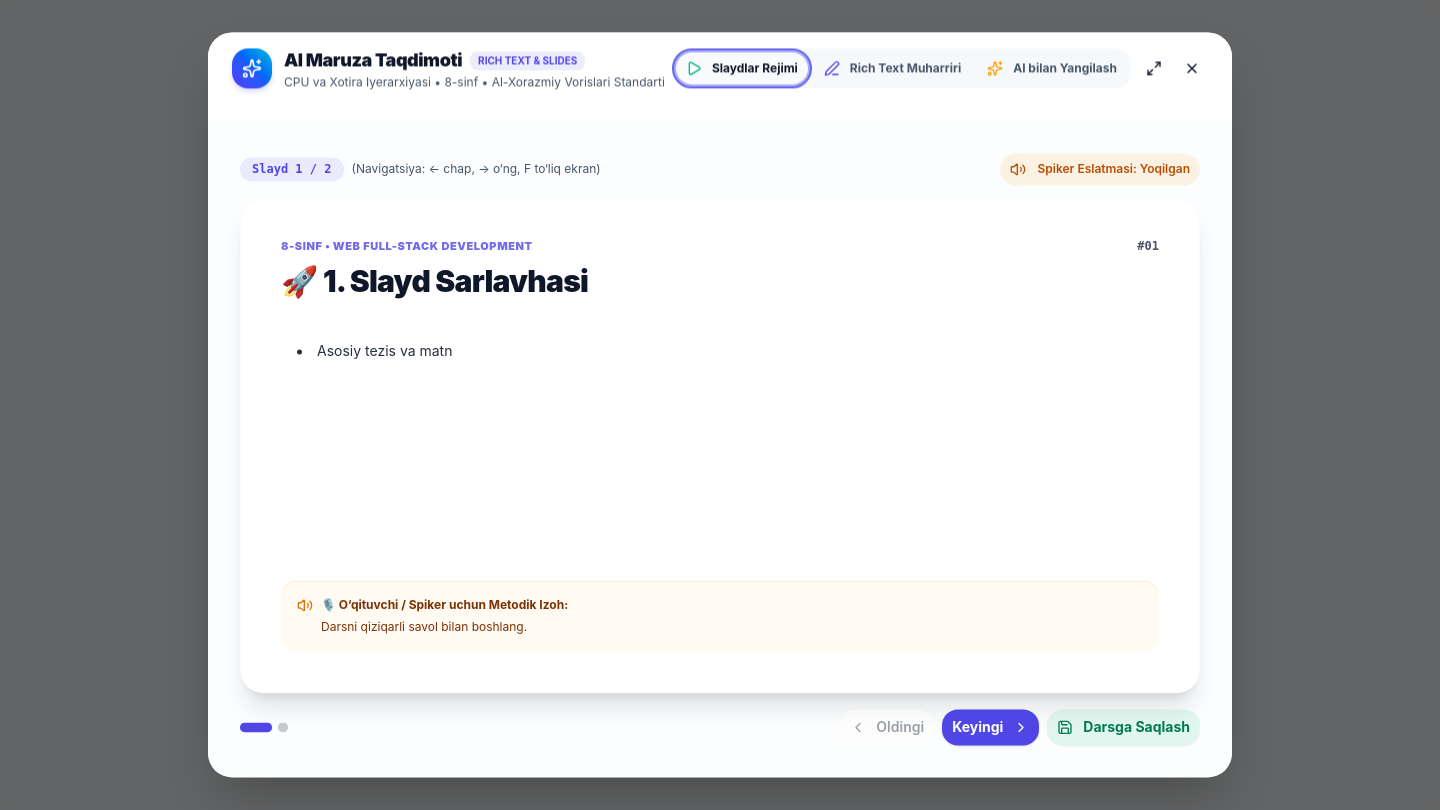
Test: AiPresentationModal Component › switches to AI Generator tab and triggers AI slide creation
Later steps or results of the test are not shown.
// Click AI Generator tab
Click the button "AI bilan Yangilash". click: (1052, 68)
box: [977, 52, 1127, 84]
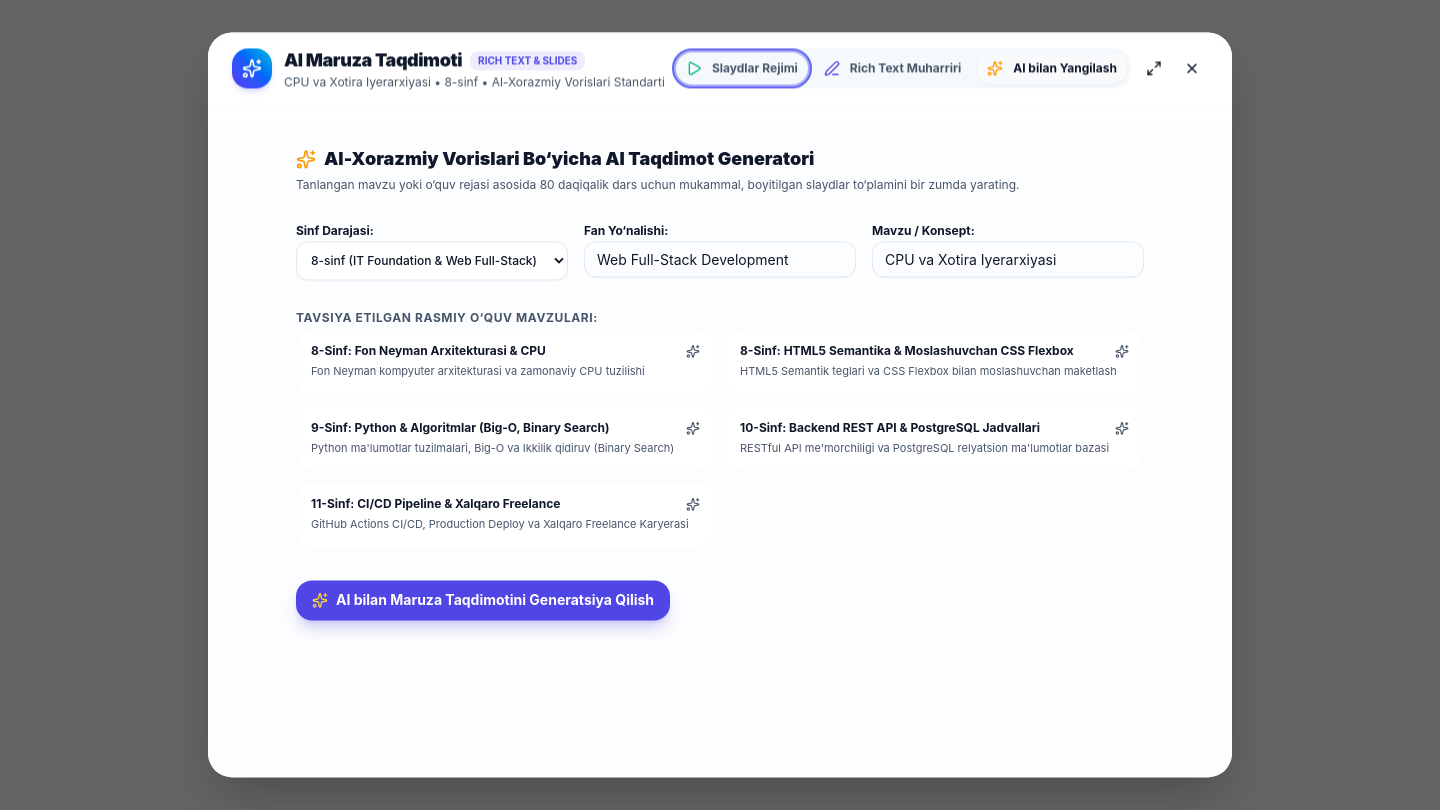
Expected: the heading "Al-Xorazmiy Vorislari Bo‘yicha AI Taqdimot Generatori" is shown, [296, 148, 814, 169]
